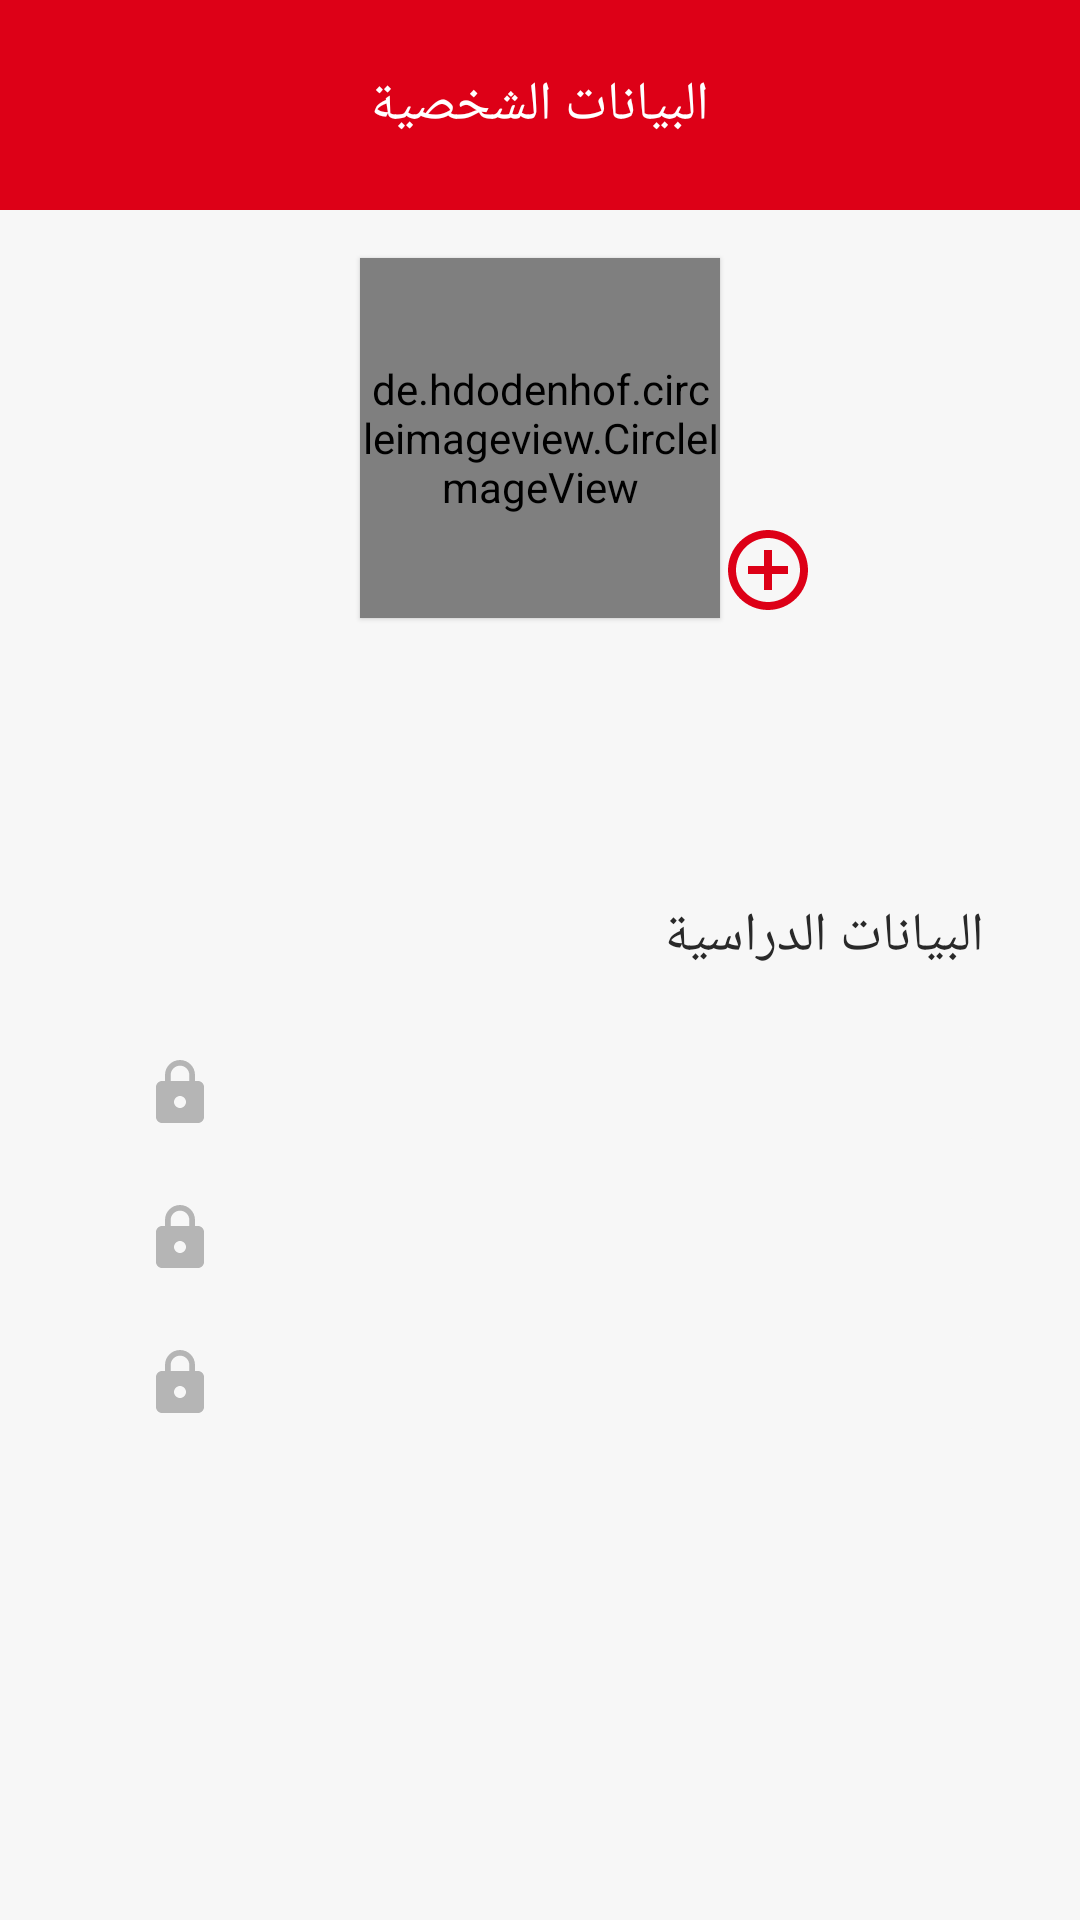

Where to tap for icons on this 1080*1920 app screen, as (x=x, y=y):
add circle: (x=768, y=570)
